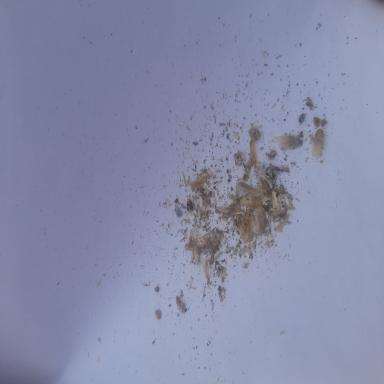pbw: (272, 134, 302, 149), (312, 128, 325, 159), (241, 208, 253, 241), (254, 206, 267, 233), (236, 182, 260, 194), (190, 176, 207, 190), (243, 160, 253, 180), (201, 259, 210, 280), (270, 208, 288, 218), (228, 205, 244, 214), (272, 189, 278, 208), (194, 244, 200, 262)
